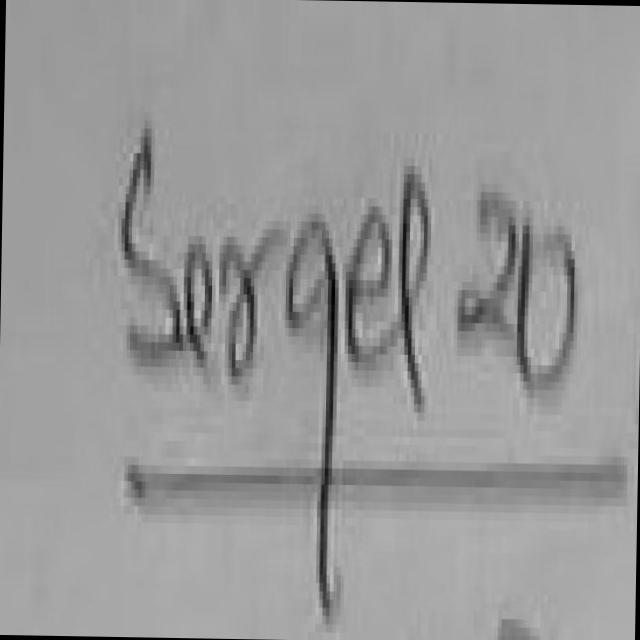0: (520, 206, 578, 389)
2: (456, 192, 521, 363)
S: (121, 128, 182, 365)
e: (348, 208, 392, 360), (186, 244, 213, 389)
g: (288, 221, 338, 616)
l: (367, 168, 432, 413)
r: (223, 229, 278, 384)
